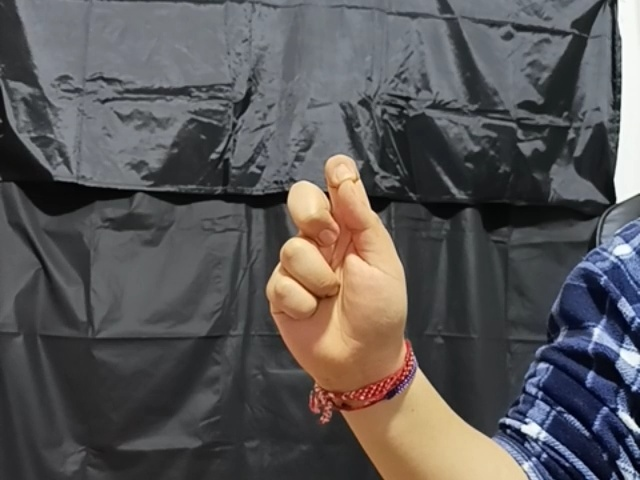T: (264, 152, 421, 370)
